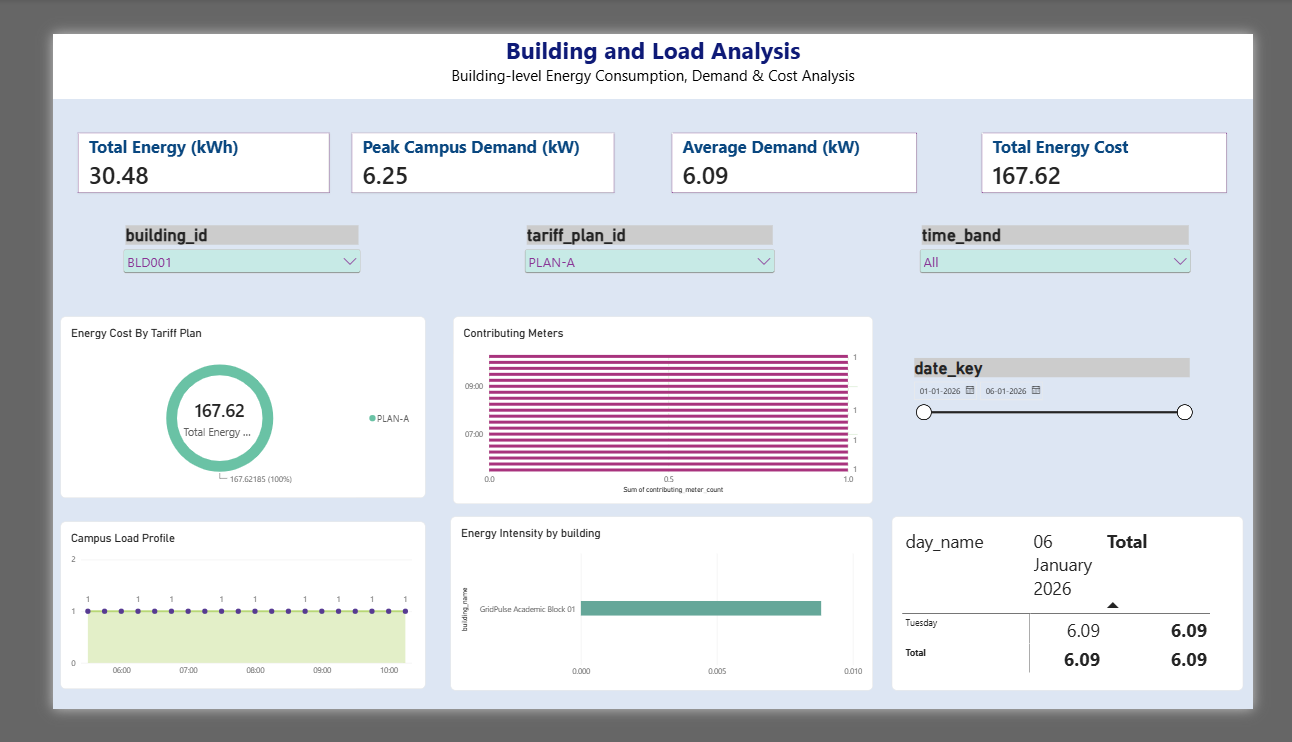

Layout of this report page (visuals, bound fields, positions):
{"tool":"powerbi","page":{"name":"Page 2","canvas":[1920,1080],"ordinal":1},"visuals":[{"type":"textbox","box":[0,0,1920.5,104.1],"z":0},{"type":"slicer","fields":{"Values":["dim_building.building_id"]},"box":[108,306,389.1,83.7],"z":1000},{"type":"slicer","fields":{"Values":["dim_date.date_key"]},"box":[1370,518,456.9,285],"z":2000},{"type":"slicer","fields":{"Values":["dim_tariff.tariff_plan_id"]},"box":[750,306,409.4,117.6],"z":3000},{"type":"slicer","fields":{"Values":["dim_tariff.time_band"]},"box":[1382,306,443.4,117.6],"z":4000},{"type":"cardVisual","fields":{"Data":["agg_building_consumption_daily.Total Energy (kWh)"]},"box":[40,158,402,96],"z":5000},{"type":"cardVisual","fields":{"Data":["agg_building_consumption_daily.Peak Campus Demand (kW)"]},"box":[478,158,420,96],"z":6000},{"type":"cardVisual","fields":{"Data":["agg_building_consumption_daily.Average Demand (kW)"]},"box":[990,158,392,96],"z":7000},{"type":"cardVisual","fields":{"Data":["agg_building_consumption_daily.Total Energy Cost"]},"box":[1486,158,392,96],"z":8000},{"type":"areaChart","title":"Campus Load Profile","fields":{"Category":["agg_peak_load_interval.interval_ts"],"Y":["CountNonNull(agg_peak_load_interval.campus_demand_kw)"]},"box":[12,780,584,268],"z":9000},{"type":"pivotTable","fields":{"Rows":["dim_date.day_name"],"Columns":["dim_date.date_key"],"Values":["agg_building_consumption_daily.Average Demand (kW)"]},"box":[1342,772,562,278],"z":10000},{"type":"donutChart","title":"Energy Cost By Tariff Plan","fields":{"Category":["agg_energy_cost_daily.tariff_plan_id"],"Y":["agg_building_consumption_daily.Total Energy Cost"]},"box":[12,452,584,290],"z":11000},{"type":"clusteredBarChart","title":"Contributing Meters","fields":{"Category":["agg_peak_load_interval.interval_ts"],"Y":["Sum(agg_peak_load_interval.contributing_meter_count)"]},"box":[640,452,672,300],"z":12000},{"type":"clusteredBarChart","title":"Energy Intensity by building","fields":{"Category":["dim_building.building_name"],"Y":["agg_building_consumption_daily.Energy Intensity"]},"box":[636,772,676,278],"z":13000}]}

Visuals, with their boxes in screenshot pixels (x1, y1, x2, y2), scaled from the page's 1920x1080 canvas onto the 1292x742 screenshot:
textbox: [0,0,1291,72]
slicer - dim_building.building_id: [73,210,335,268]
slicer - dim_date.date_key: [922,356,1229,552]
slicer - dim_tariff.tariff_plan_id: [505,210,780,291]
slicer - dim_tariff.time_band: [930,210,1228,291]
cardVisual - agg_building_consumption_daily.Total Energy (kWh): [27,109,297,175]
cardVisual - agg_building_consumption_daily.Peak Campus Demand (kW): [322,109,604,175]
cardVisual - agg_building_consumption_daily.Average Demand (kW): [666,109,930,175]
cardVisual - agg_building_consumption_daily.Total Energy Cost: [1000,109,1264,175]
"Campus Load Profile" areaChart: [8,536,401,720]
pivotTable - dim_date.day_name x dim_date.date_key: [903,530,1281,721]
"Energy Cost By Tariff Plan" donutChart: [8,311,401,510]
"Contributing Meters" clusteredBarChart: [431,311,883,517]
"Energy Intensity by building" clusteredBarChart: [428,530,883,721]
